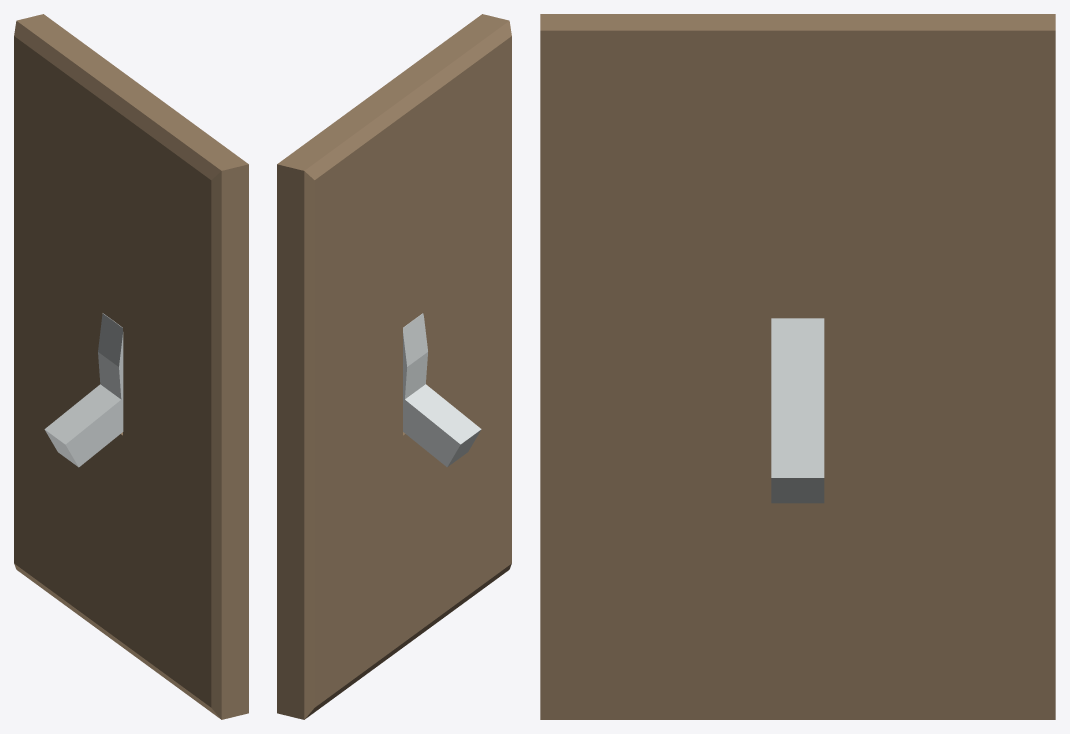
File: lightswitch.fbx
3 renders of one model, left to right at view 1: azimuth 30°, elevation 25°; view 2: azimuth 150°, elevation 25°; view 3: azimuth 270°, elevation 25°, orthographic. The views are drawn at different scales.
Visible parts, largest first — view 1: lightswitch_base, light_switch; view 2: lightswitch_base, light_switch; view 3: lightswitch_base, light_switch.
Part boxes in pixels (x1,y1,x2,y2): lightswitch_base: [14, 14, 248, 719]; light_switch: [44, 313, 123, 467]; lightswitch_base: [277, 14, 511, 719]; light_switch: [403, 313, 481, 467]; lightswitch_base: [540, 14, 1055, 719]; light_switch: [771, 318, 824, 503].
Size of the model in its own units: 0.0515 by 0.188 by 0.1274.
